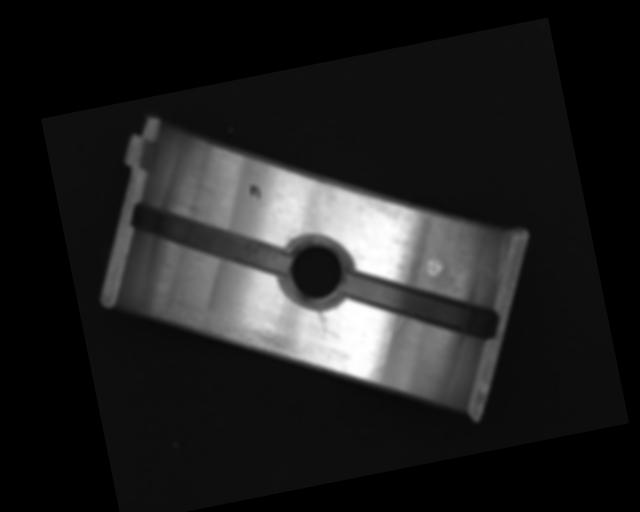blot: (248, 182, 263, 201)
bruise: (425, 255, 445, 277)
gap: (128, 179, 292, 299), (344, 251, 500, 360)
hole: (271, 229, 357, 312)
nick: (357, 329, 400, 384), (317, 308, 329, 333)
scratch: (153, 288, 298, 384)
